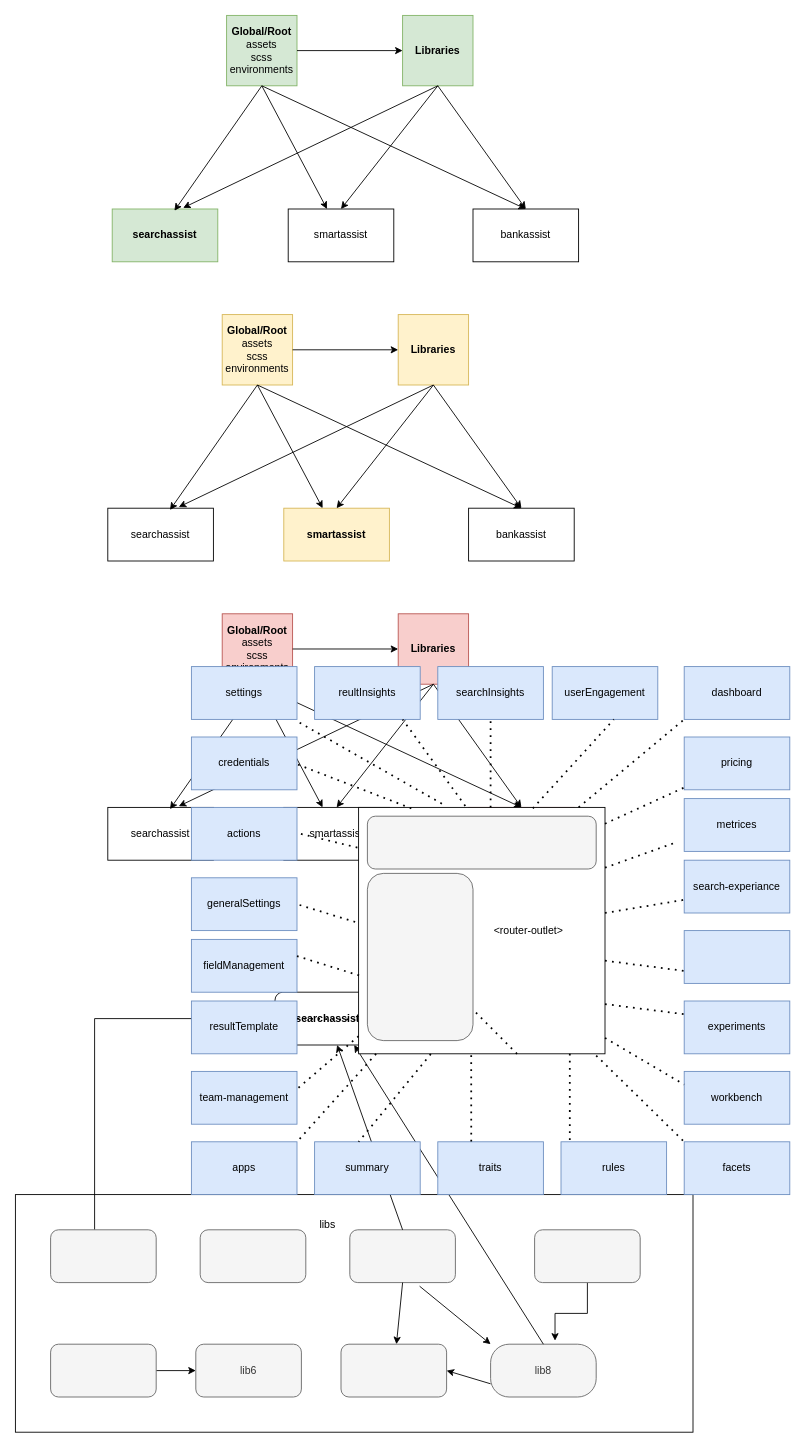
This 805x1448 diagram has some shape labels left out. Here are the shapes that lost their labels. From the top down, the centre of each, then its label:
point (481, 842): Header
point (420, 957): mainmenu
point (736, 956): resultRanking
point (103, 1256): lib1
point (252, 1256): lib2
point (402, 1256): lib3
point (587, 1256): lib4
point (103, 1370): lib5
point (393, 1370): lib7
